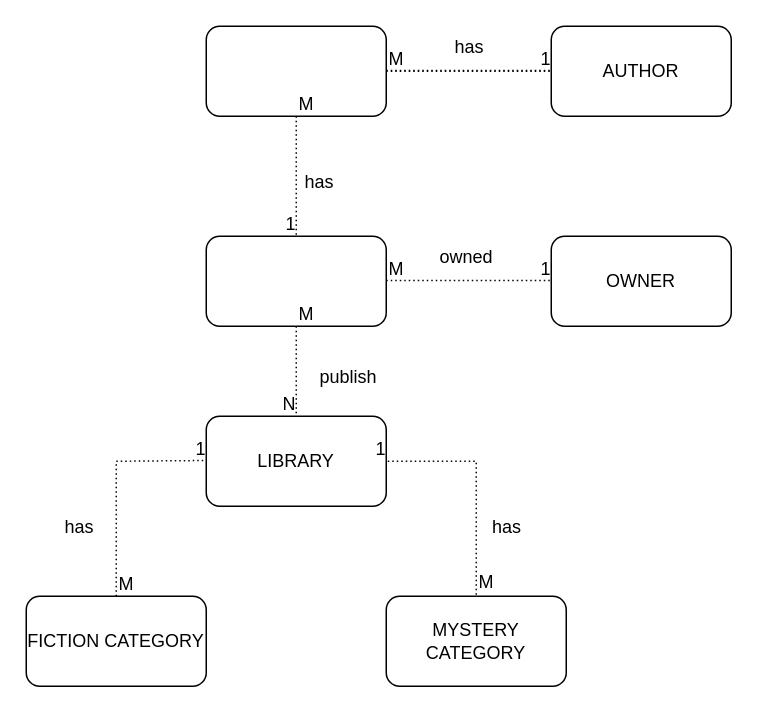
Some shapes in this 758 by 713 pixel diagram are drawn without their labels. The centre of each missing label's shape, as x and y in pixels:
BOOK: point 295,70
PUBLISHER: point 295,280
